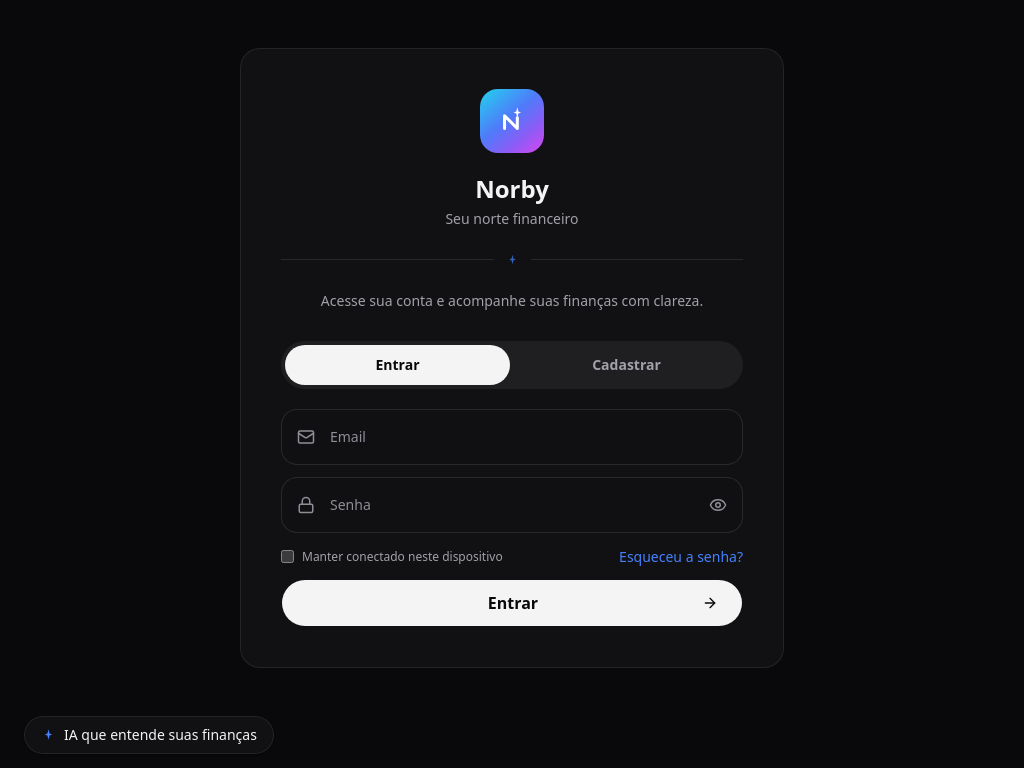
Test: Auth › alterna entrada e cadastro como botões pressionáveis sem simular tabs
The image size is (1024, 768).
Click the button "Cadastrar" at (626,365), box left=514, top=345, right=739, bottom=385
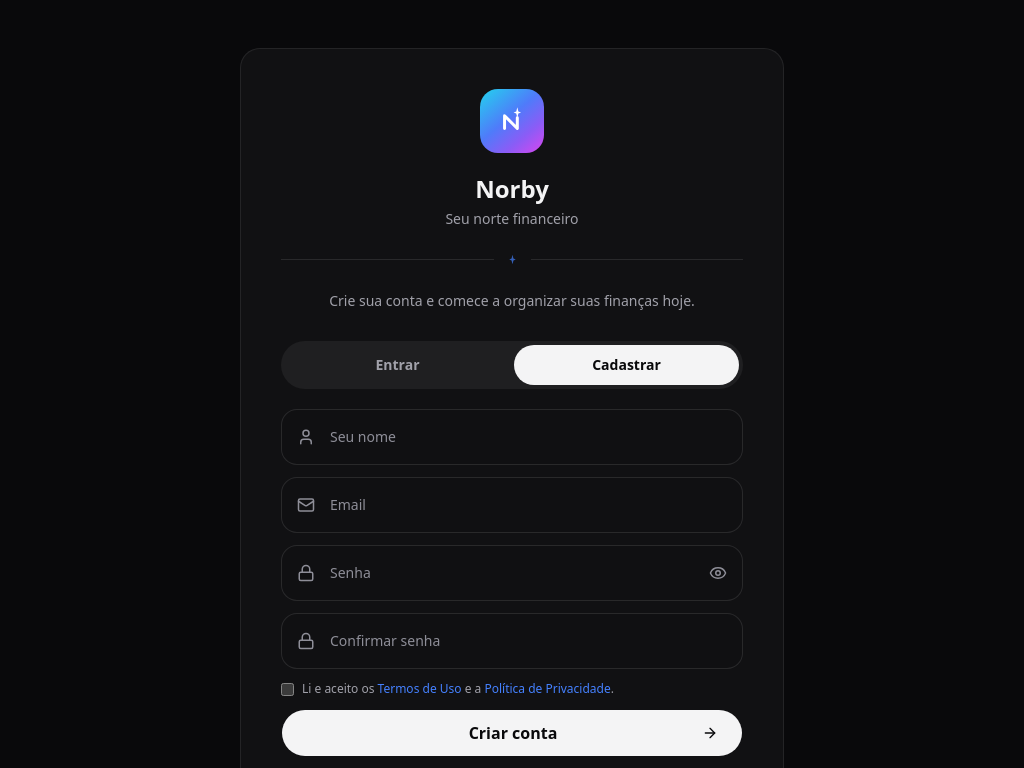
Check: the field labelled "Seu nome" is shown, box left=281, top=409, right=743, bottom=465
Check: the password field labelled "Confirmar senha" is shown, box left=281, top=613, right=743, bottom=669
